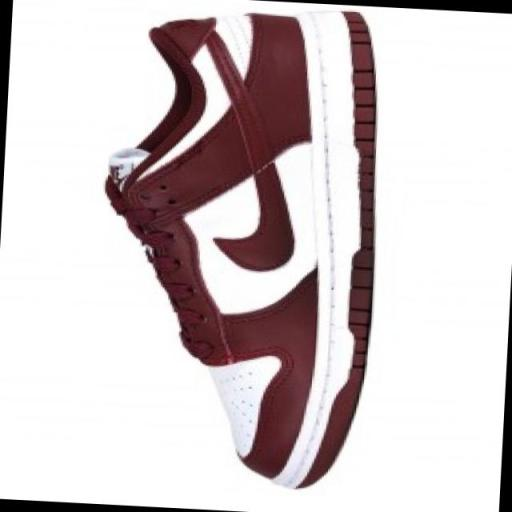Nike: (198, 58, 308, 280)
